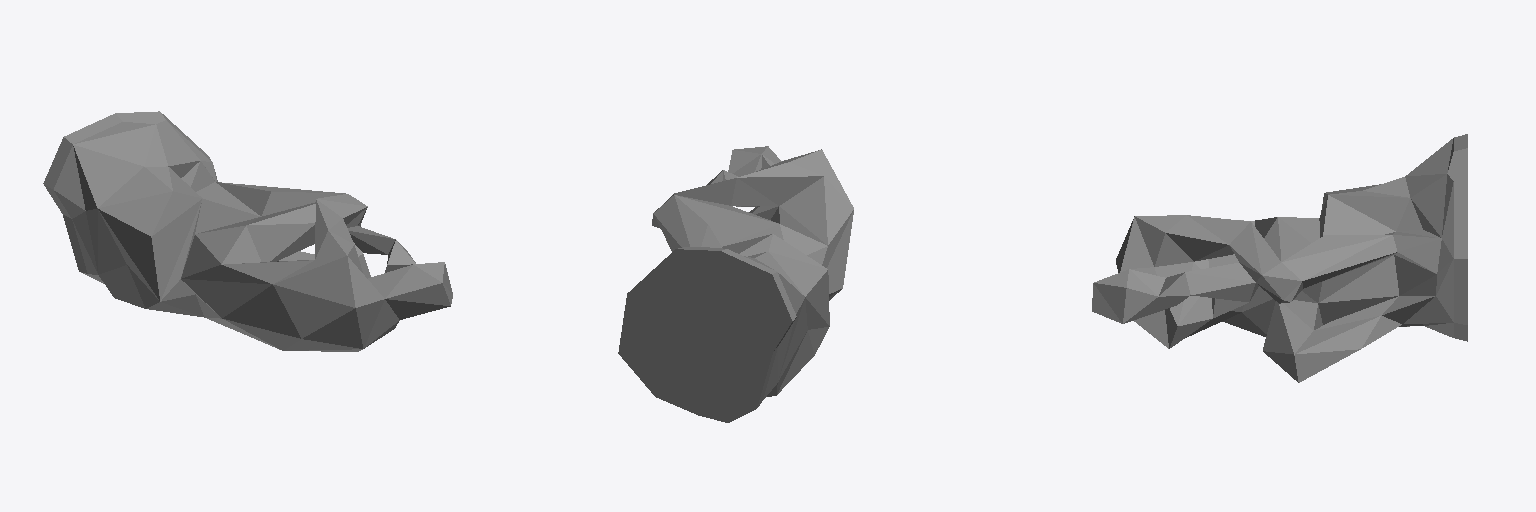
The model's file is thinker.obj.
3 renders of one model, left to right at view 1: azimuth 30°, elevation 25°; view 2: azimuth 150°, elevation 25°; view 3: azimuth 270°, elevation 25°, orthographic.
Parts seen in each view (by area): view 1: Lowest_poly_thinker; view 2: Lowest_poly_thinker; view 3: Lowest_poly_thinker.
Part boxes in pixels (x1,y1,x2,y2): Lowest_poly_thinker: (43, 111, 452, 351); Lowest_poly_thinker: (618, 146, 853, 422); Lowest_poly_thinker: (1092, 134, 1467, 382).
Size of the model in its own units: 58.29 by 39.98 by 80.